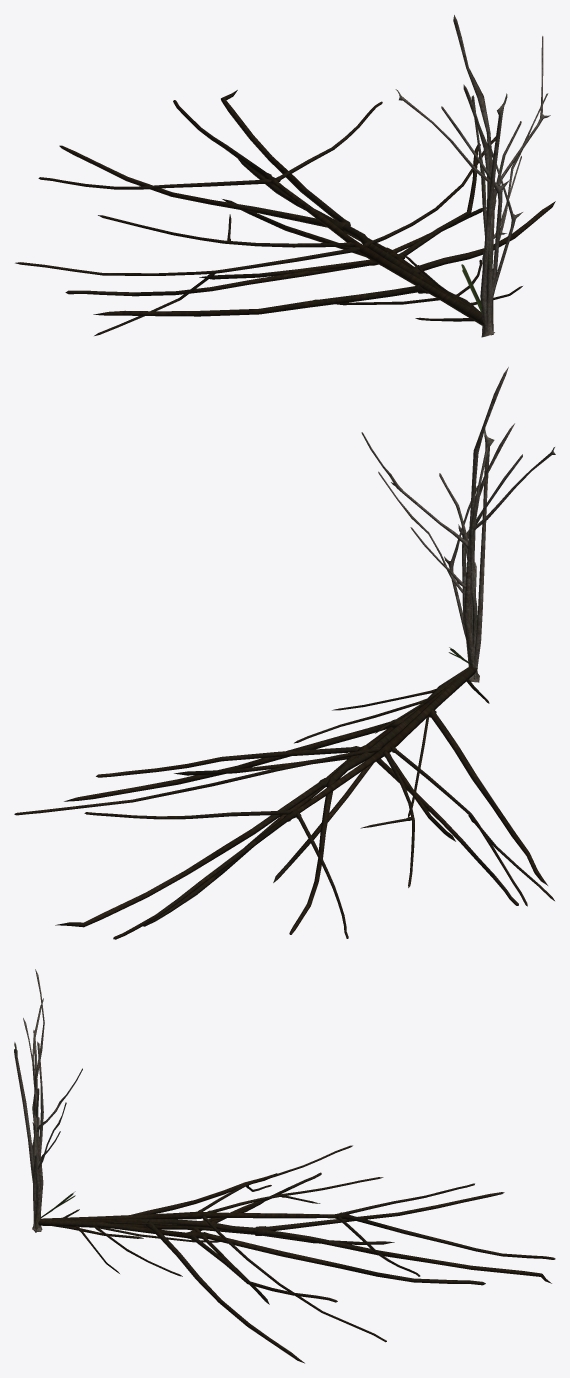
Rendered from tree3.gltf.
The picture shows the model from 3 angles, top to bottom: view 1: azimuth 30°, elevation 25°; view 2: azimuth 150°, elevation 25°; view 3: azimuth 270°, elevation 25°; orthographic projection. The views are drawn at different scales.
Parts seen in each view (by area): view 1: fir_sapling_medium_twigs_a_LOD0, fir_sapling_medium_twigs_c_LOD0, fir_sapling_medium_twigs_tips_d_LOD0, fir_sapling_medium_dead_branches_j, fir_sapling_medium_twigs_b_LOD0, fir_sapling_medium_dead_branches_a, fir_sapling_medium_dead_branches_h, fir_sapling_medium_dead_branches_i, fir_sapling_medium_twigs_tips_b_LOD0, fir_sapling_medium_dead_branches_b, fir_sapling_medium_dead_branches_e, fir_sapling_medium_dead_branches_g; view 2: fir_sapling_medium_twigs_a_LOD0, fir_sapling_medium_twigs_c_LOD0, fir_sapling_medium_twigs_tips_d_LOD0, fir_sapling_medium_dead_branches_j, fir_sapling_medium_twigs_b_LOD0, fir_sapling_medium_dead_branches_a, fir_sapling_medium_twigs_tips_b_LOD0, fir_sapling_medium_dead_branches_h; view 3: fir_sapling_medium_twigs_c_LOD0, fir_sapling_medium_twigs_a_LOD0, fir_sapling_medium_twigs_tips_d_LOD0, fir_sapling_medium_twigs_b_LOD0, fir_sapling_medium_dead_branches_j, fir_sapling_medium_twigs_tips_b_LOD0, fir_sapling_medium_dead_branches_a, fir_sapling_medium_dead_branches_h.
Boxes of the visible parts, box(x1,y1,x2,y2) form: fir_sapling_medium_twigs_a_LOD0: box(15, 100, 495, 335); fir_sapling_medium_twigs_c_LOD0: box(59, 90, 555, 316); fir_sapling_medium_twigs_tips_d_LOD0: box(65, 144, 480, 308); fir_sapling_medium_dead_branches_j: box(395, 15, 550, 335); fir_sapling_medium_twigs_b_LOD0: box(199, 199, 486, 315); fir_sapling_medium_dead_branches_a: box(480, 93, 507, 331); fir_sapling_medium_dead_branches_h: box(441, 93, 548, 333); fir_sapling_medium_dead_branches_i: box(463, 84, 521, 267); fir_sapling_medium_twigs_tips_b_LOD0: box(313, 259, 522, 305); fir_sapling_medium_dead_branches_b: box(481, 186, 494, 337); fir_sapling_medium_dead_branches_e: box(487, 138, 522, 299); fir_sapling_medium_dead_branches_g: box(471, 95, 486, 236); fir_sapling_medium_twigs_a_LOD0: box(14, 666, 554, 939); fir_sapling_medium_twigs_c_LOD0: box(55, 666, 547, 934); fir_sapling_medium_twigs_tips_d_LOD0: box(96, 677, 518, 926); fir_sapling_medium_dead_branches_j: box(361, 367, 555, 679); fir_sapling_medium_twigs_b_LOD0: box(174, 665, 471, 882); fir_sapling_medium_dead_branches_a: box(474, 429, 494, 675); fir_sapling_medium_twigs_tips_b_LOD0: box(294, 688, 436, 817); fir_sapling_medium_dead_branches_h: box(378, 454, 522, 681); fir_sapling_medium_twigs_c_LOD0: box(41, 1173, 551, 1363); fir_sapling_medium_twigs_a_LOD0: box(43, 1145, 555, 1342); fir_sapling_medium_twigs_tips_d_LOD0: box(71, 1172, 485, 1302); fir_sapling_medium_twigs_b_LOD0: box(38, 1199, 394, 1304); fir_sapling_medium_dead_branches_j: box(32, 969, 82, 1232); fir_sapling_medium_twigs_tips_b_LOD0: box(75, 1225, 219, 1276); fir_sapling_medium_dead_branches_a: box(14, 1042, 33, 1182); fir_sapling_medium_dead_branches_h: box(32, 1030, 66, 1231).
Size of what is drawn, in the model's own units: 1.78 by 1.29 by 2.16.
